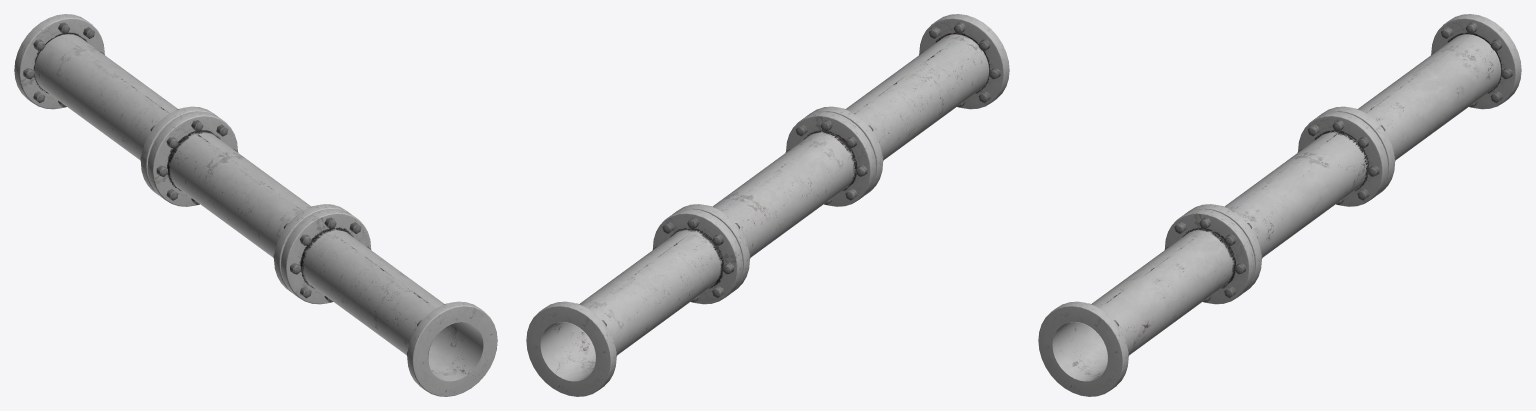
The model's file is Modular_Small_Pipe_Straight_5m.fbx.
3 renders of one model, left to right at view 1: azimuth 30°, elevation 25°; view 2: azimuth 150°, elevation 25°; view 3: azimuth 330°, elevation 25°, orthographic.
Visible parts, largest first — view 1: Modular_Small_Pipe_Straight_5m_LOD0; view 2: Modular_Small_Pipe_Straight_5m_LOD0; view 3: Modular_Small_Pipe_Straight_5m_LOD0.
Part boxes in pixels (x1,y1,x2,y2): Modular_Small_Pipe_Straight_5m_LOD0: (14, 14, 497, 396); Modular_Small_Pipe_Straight_5m_LOD0: (526, 14, 1009, 396); Modular_Small_Pipe_Straight_5m_LOD0: (1038, 14, 1521, 396).
Size of what is drawn, in the model's own units: 0.617 by 0.617 by 5.
